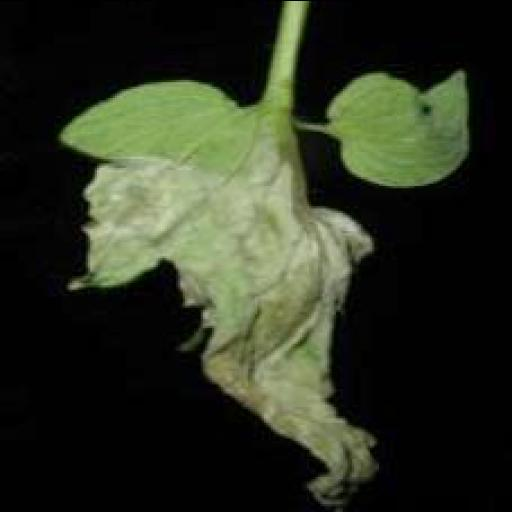disease_tomato: (50, 56, 476, 510)
